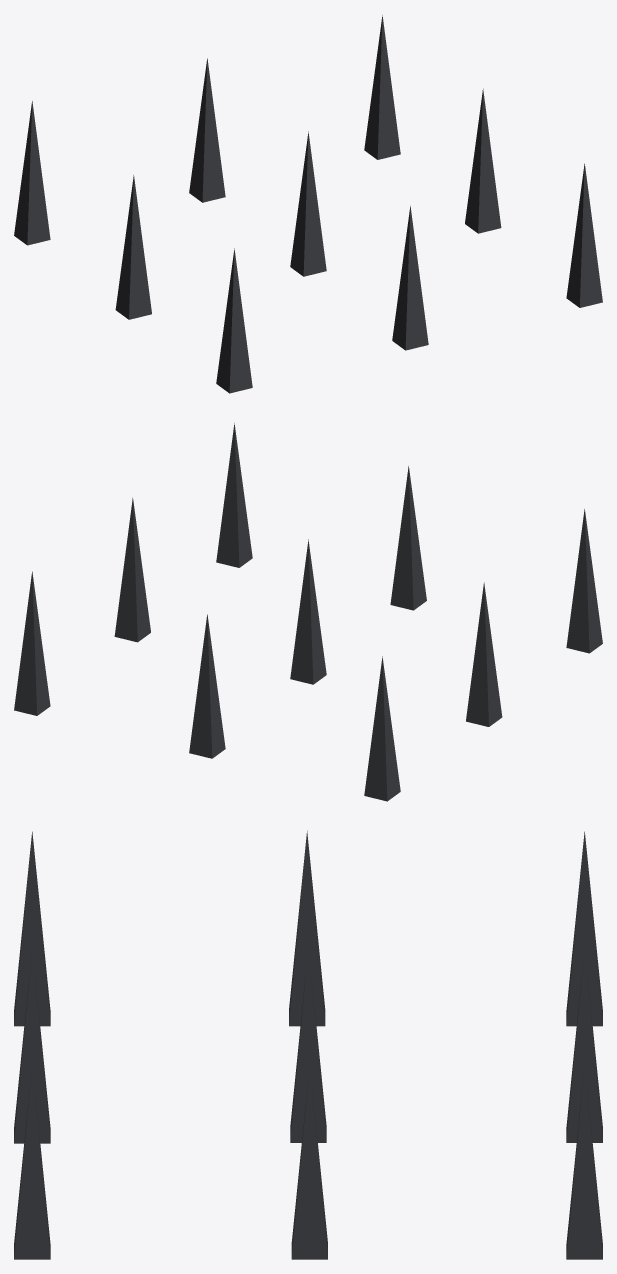
The model's file is Spike.V6.fbx.
3 views of the same model, one above another, from view 1: azimuth 30°, elevation 25°; view 2: azimuth 150°, elevation 25°; view 3: azimuth 270°, elevation 25° (orthographic). The views are drawn at different scales.
Visible parts, largest first — view 1: Cube.008, Cube.009, Cube.001, Cube.005, Cube.007, Cube.002, Cube.006, Cube.003, Cube.004; view 2: Cube.002, Cube.007, Cube.001, Cube.008, Cube.003, Cube.006, Cube.009, Cube.004, Cube.005; view 3: Cube.007, Cube.008, Cube.009, Cube.005, Cube.003, Cube.004, Cube.001, Cube.002, Cube.006.
Part boxes in pixels (bbox=[...]): Cube.008: bbox=[465, 88, 501, 233]; Cube.009: bbox=[364, 15, 400, 159]; Cube.001: bbox=[290, 131, 326, 276]; Cube.005: bbox=[216, 248, 252, 393]; Cube.007: bbox=[566, 163, 602, 307]; Cube.002: bbox=[189, 58, 225, 202]; Cube.006: bbox=[392, 205, 428, 350]; Cube.003: bbox=[14, 101, 50, 245]; Cube.004: bbox=[115, 175, 151, 319]; Cube.002: bbox=[189, 614, 225, 758]; Cube.007: bbox=[216, 423, 252, 567]; Cube.001: bbox=[290, 539, 326, 684]; Cube.008: bbox=[114, 497, 150, 642]; Cube.003: bbox=[364, 656, 400, 801]; Cube.006: bbox=[390, 466, 426, 610]; Cube.009: bbox=[14, 571, 50, 715]; Cube.004: bbox=[466, 582, 502, 726]; Cube.005: bbox=[566, 509, 602, 653]; Cube.007: bbox=[14, 1065, 50, 1259]; Cube.008: bbox=[291, 1064, 327, 1259]; Cube.009: bbox=[566, 1065, 602, 1259]; Cube.005: bbox=[14, 831, 50, 1026]; Cube.003: bbox=[566, 831, 602, 1026]; Cube.004: bbox=[289, 830, 325, 1026]; Cube.001: bbox=[290, 947, 326, 1142]; Cube.002: bbox=[566, 948, 602, 1142]; Cube.006: bbox=[14, 949, 50, 1143].
Size of the model in its own units: 1.32 by 0.4663 by 1.32.
